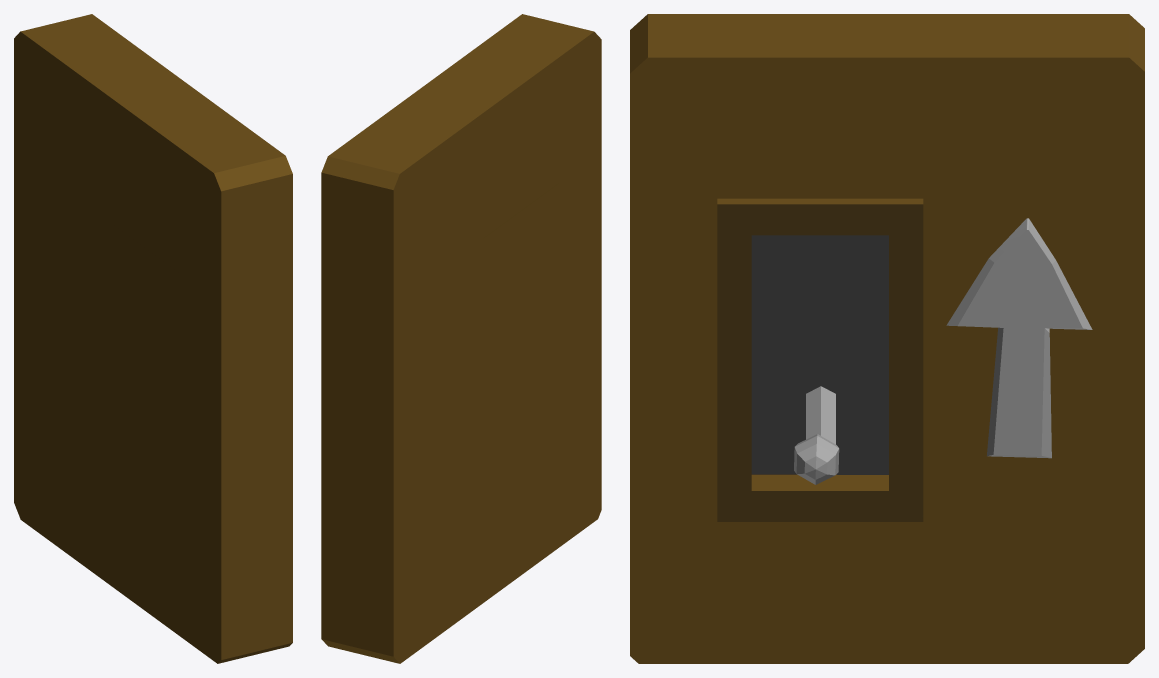
Rendered from Object_LeverUp.fbx.
The picture shows the model from 3 angles, left to right: view 1: azimuth 30°, elevation 25°; view 2: azimuth 150°, elevation 25°; view 3: azimuth 270°, elevation 25°; orthographic projection. The views are drawn at different scales.
Parts seen in each view (by area): view 1: Object_Lever; view 2: Object_Lever; view 3: Object_Lever, Object_Lever6, Object_Lever4, Object_Lever2.
Boxes of the visible parts, box(x1,y1,x2,y2) form: Object_Lever: box(14, 14, 292, 663); Object_Lever: box(321, 14, 601, 663); Object_Lever: box(630, 14, 1144, 663); Object_Lever6: box(946, 218, 1092, 458); Object_Lever4: box(794, 434, 839, 484); Object_Lever2: box(806, 386, 835, 444).
Bounding box in the file's own units: 0.3973 × 1.3 × 1.
2 materials, 1 textured.
